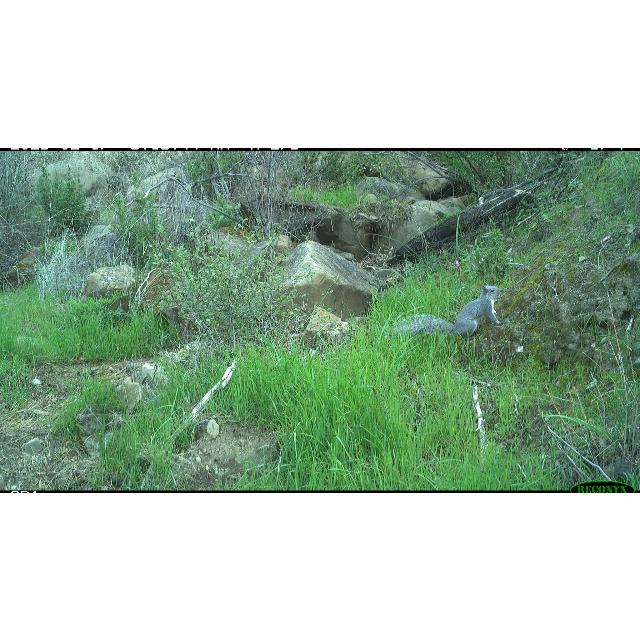animals: (396, 284, 502, 340)
